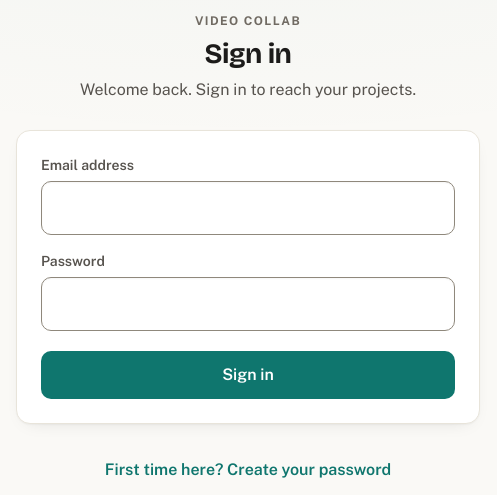
SignInPage › disables the submit button while a request is in flight
The image size is (497, 495).
Type "a@b.com" into the field labelled "Email address" at (248, 208), box [41,180,455,234]
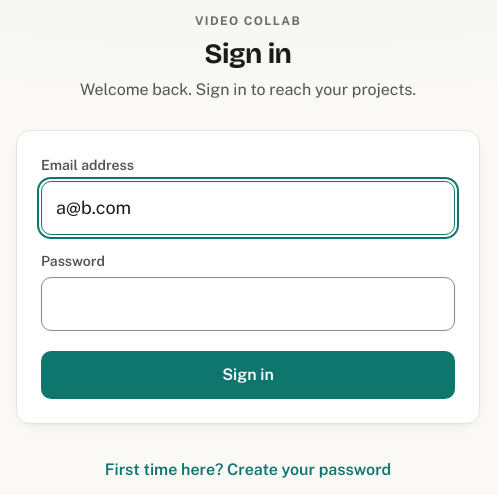
Type "secret123" into the password field labelled "Password" at (248, 304), box [41,276,455,330]
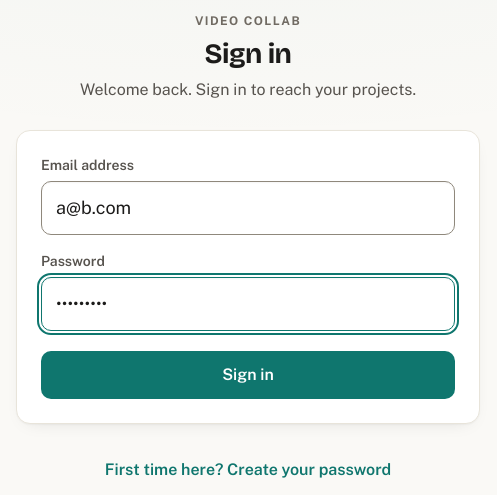
Click the button "Sign in" at (248, 374), box [41,350,455,398]
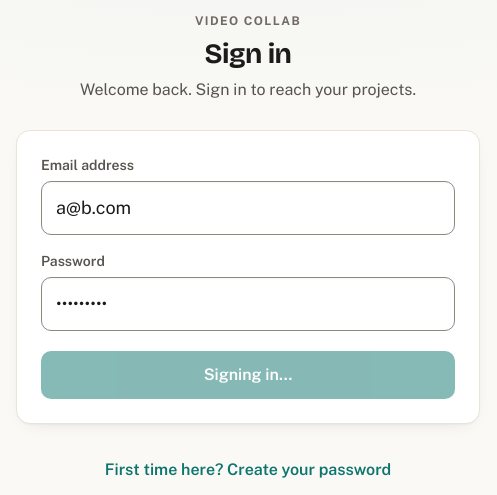
Expected: the button "Signing in…" is disabled, [41,350,455,398]
